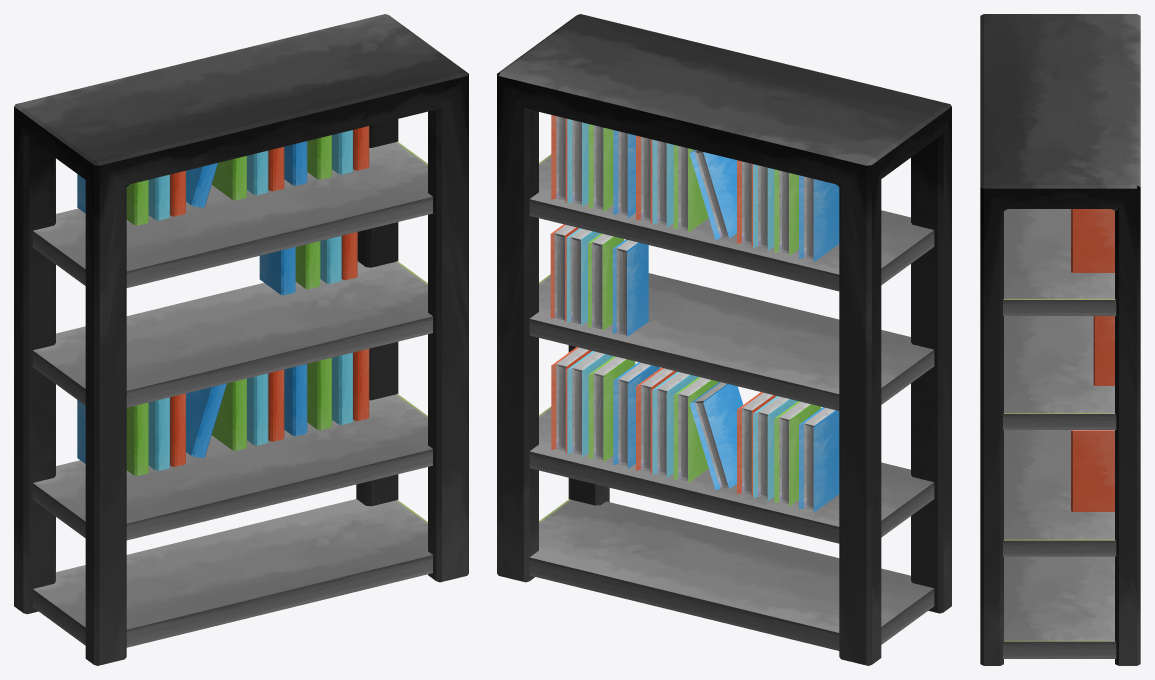
Rendered from Obj_BookShelf.gltf.
3 views of the same model, side by side, from view 1: azimuth 30°, elevation 25°; view 2: azimuth 150°, elevation 25°; view 3: azimuth 270°, elevation 25° (orthographic). The views are drawn at different scales.
Parts seen in each view (by area): view 1: Obj_BookShelf; view 2: Obj_BookShelf; view 3: Obj_BookShelf.
Boxes of the visible parts, left/top/right/bottom form: Obj_BookShelf: left=14, top=14, right=468, bottom=665; Obj_BookShelf: left=497, top=14, right=951, bottom=665; Obj_BookShelf: left=980, top=14, right=1140, bottom=665.
Size of what is drawn, in the model's own units: 1.69 by 2.18 by 0.6582.
1 material, 1 textured.
